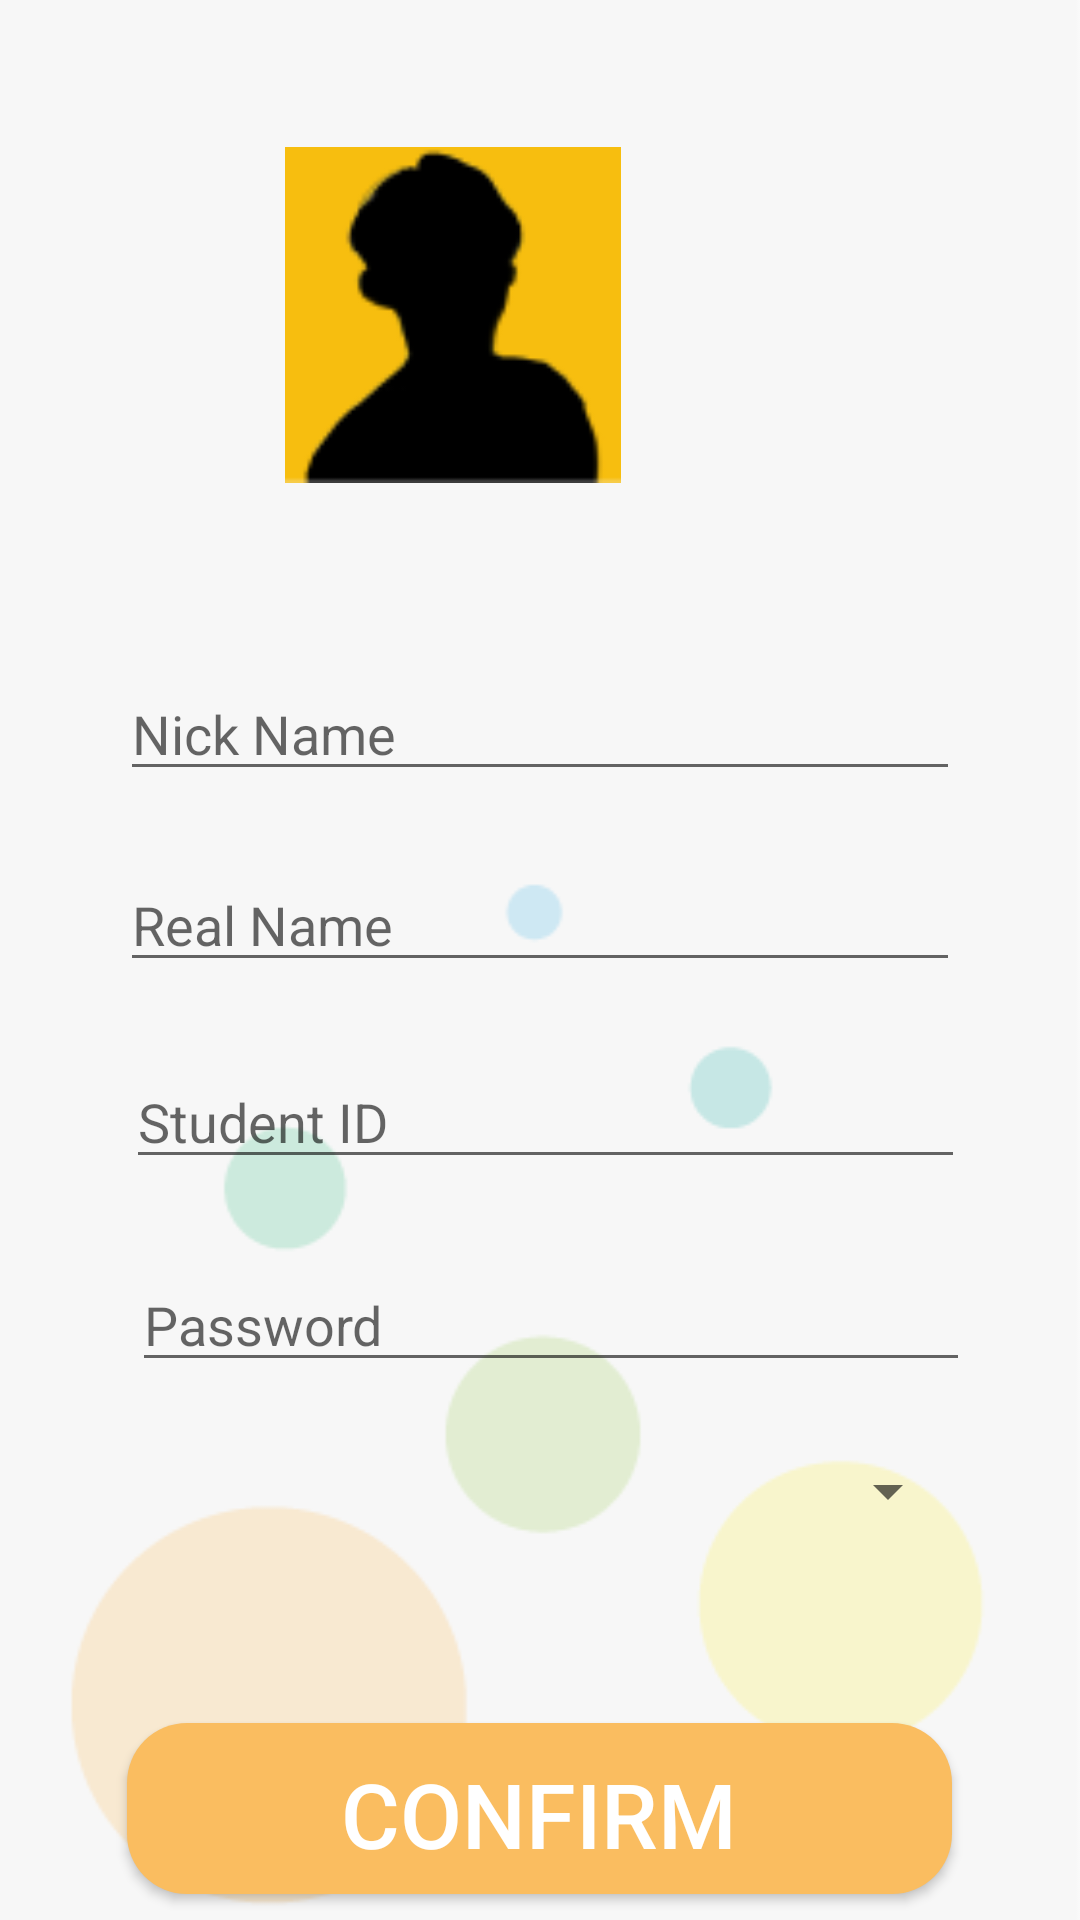

Where to tap for icons on this 1080px×1920px app screen, as [x,y]:
figure: [453,315]
